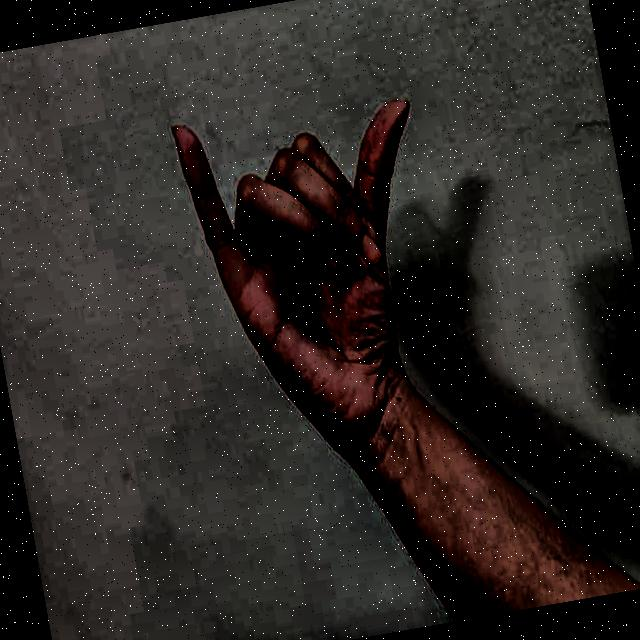Oi: (154, 44, 491, 494)
